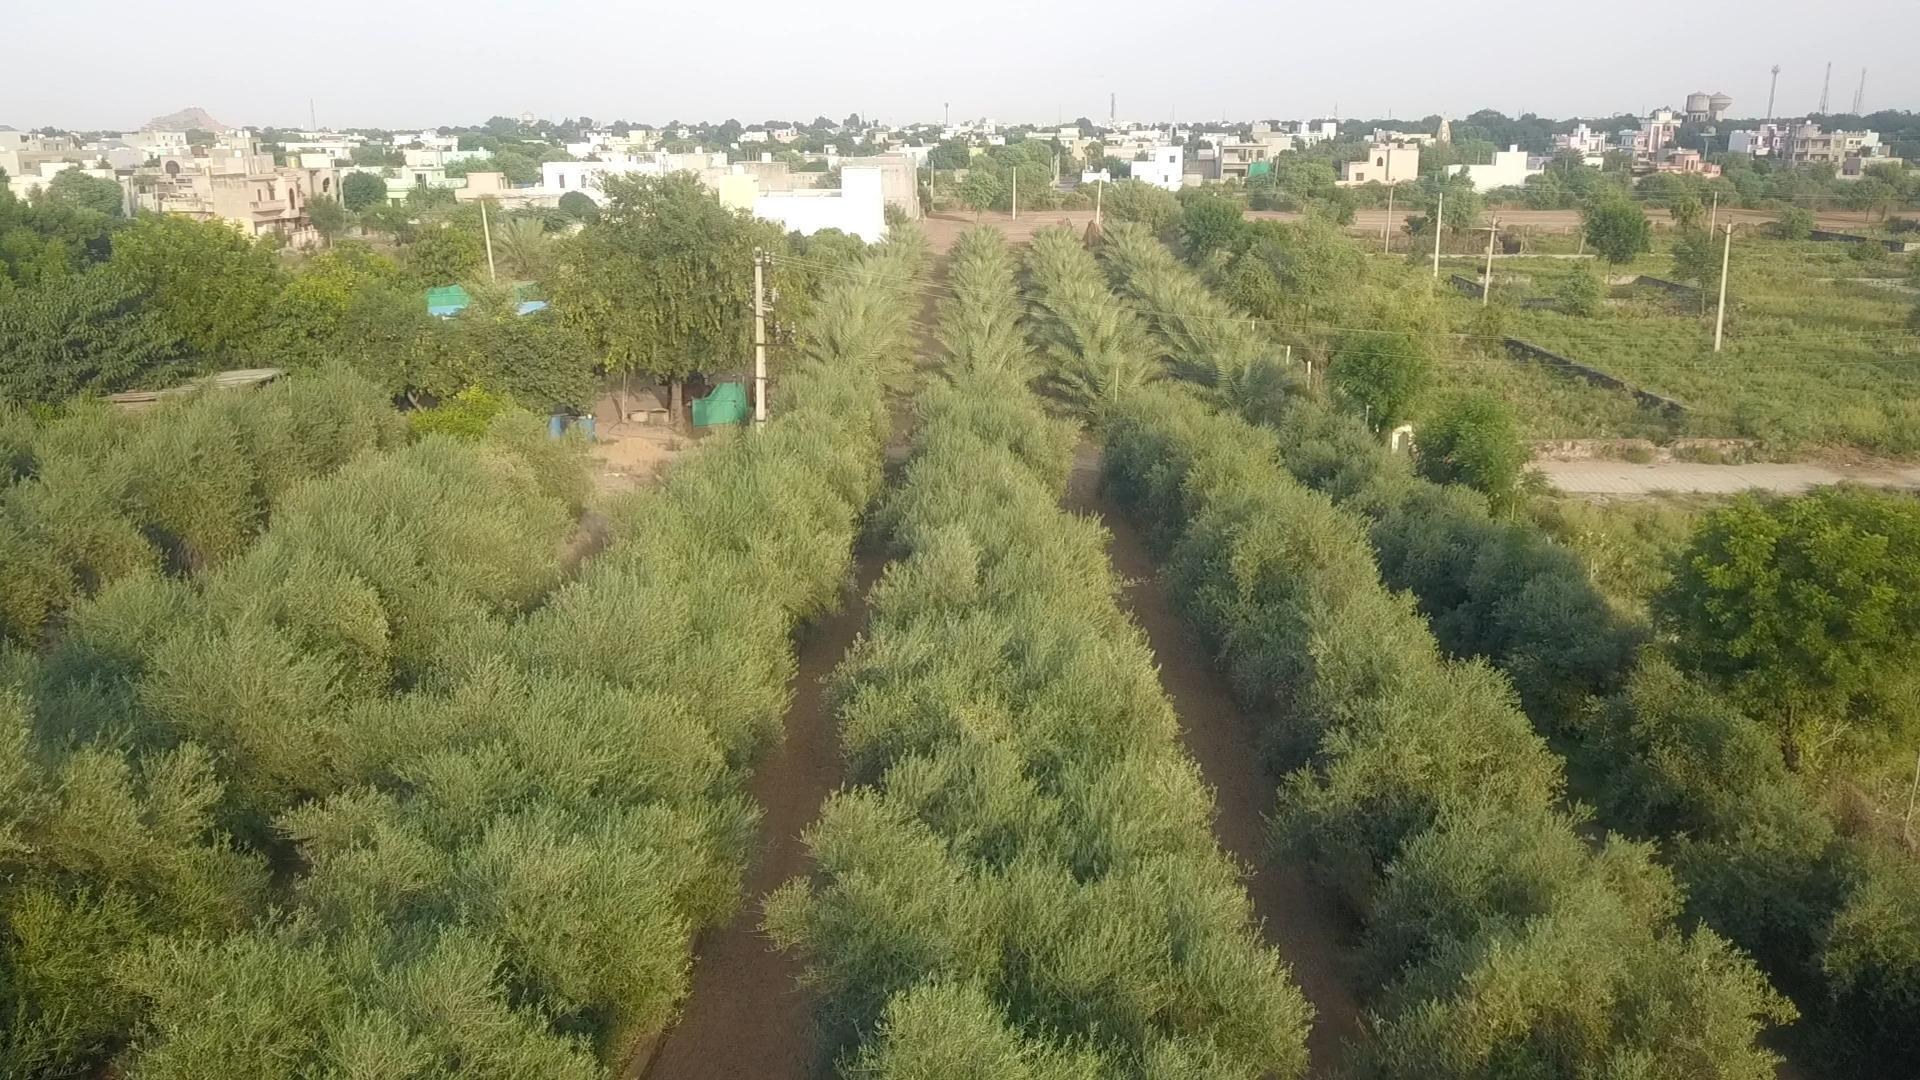canopy: (138, 369, 884, 1079), (1102, 386, 1796, 1079), (1280, 389, 1919, 1073), (767, 376, 1313, 1079), (0, 436, 574, 1075), (0, 364, 405, 644)
road: (1065, 443, 1357, 1073), (640, 546, 886, 1079)
